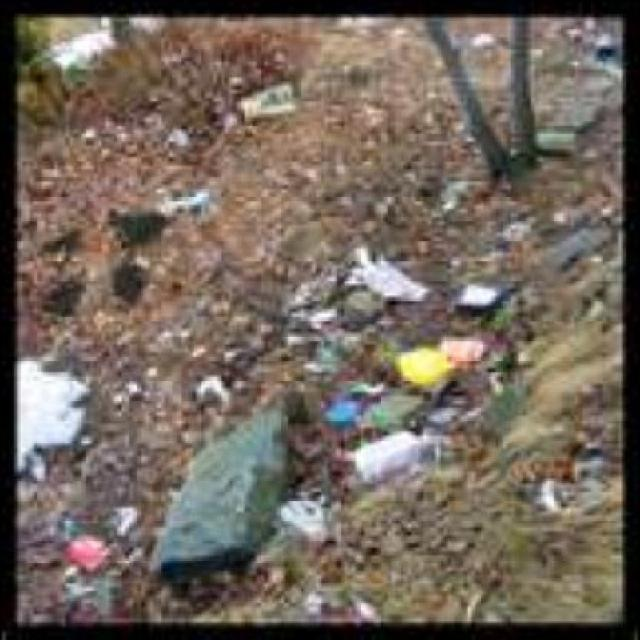garbage: (246, 289, 452, 486), (131, 414, 301, 564), (451, 276, 502, 315)
